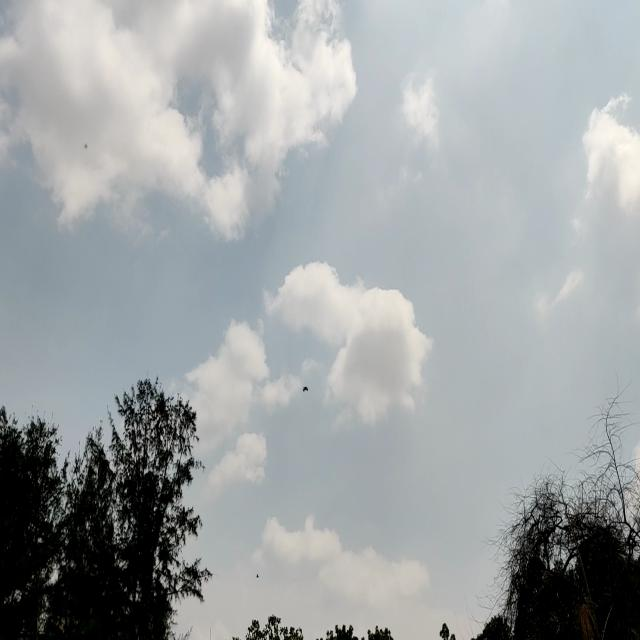drone: (300, 381, 312, 399)
